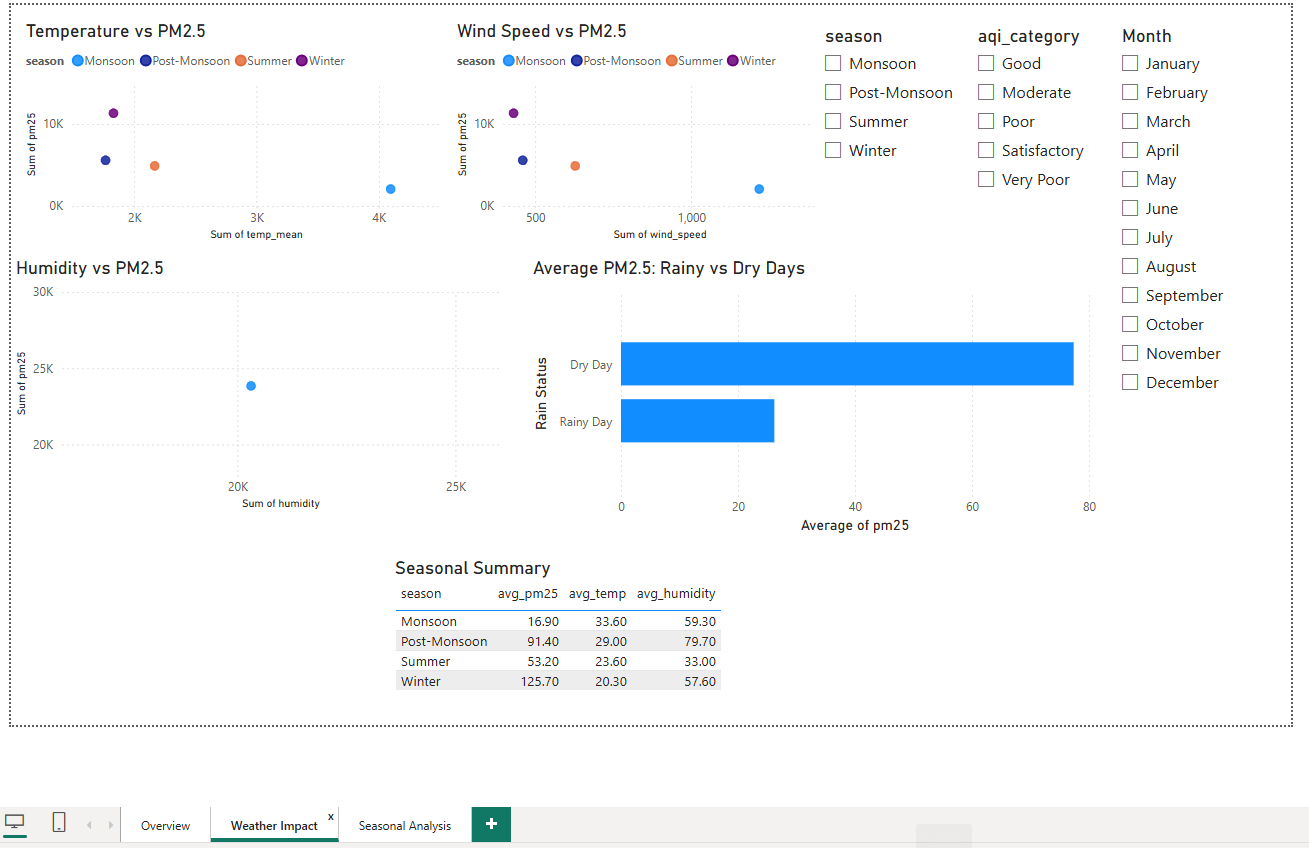

Layout of this report page (visuals, bound fields, positions):
{"tool":"powerbi","page":{"name":"Weather Impact","canvas":[1280,720],"ordinal":1},"visuals":[{"type":"scatterChart","title":"Temperature vs PM2.5","fields":{"X":["Sum(daily_dashboard.temp_mean)"],"Y":["Sum(daily_dashboard.pm25)"],"Series":["daily_dashboard.season"]},"box":[9.7,14.6,430.9,225.7],"z":0},{"type":"scatterChart","title":"Wind Speed vs PM2.5","fields":{"X":["Sum(daily_dashboard.wind_speed)"],"Y":["Sum(daily_dashboard.pm25)"],"Series":["daily_dashboard.season"]},"box":[440.6,14.6,384.2,225.7],"z":1000},{"type":"scatterChart","title":"Humidity vs PM2.5","fields":{"X":["Sum(daily_dashboard.humidity)"],"Y":["Sum(daily_dashboard.pm25)"]},"box":[0,251.9,502.9,256.8],"z":2000},{"type":"clusteredBarChart","title":"Average PM2.5: Rainy vs Dry Days","fields":{"Category":["daily_dashboard.Rain Status"],"Y":["Avg(daily_dashboard.pm25)"]},"box":[517.4,251.9,572.9,281.1],"z":3000},{"type":"tableEx","title":"Seasonal Summary","fields":{"Values":["seasonal_summary.season","seasonal_summary.avg_pm25","seasonal_summary.avg_temp","seasonal_summary.avg_humidity"]},"box":[379.3,552.5,374.5,167.3],"z":4000},{"type":"slicer","fields":{"Values":["daily_dashboard.season"]},"box":[801.5,14.6,152.7,171.2],"z":4001},{"type":"slicer","fields":{"Values":["daily_dashboard.date.Variation.Date Hierarchy.Month"]},"box":[1098.1,14.6,164.4,391],"z":4002},{"type":"slicer","fields":{"Values":["daily_dashboard.aqi_category"]},"box":[954.2,14.6,136.2,215.9],"z":4003}]}

Visuals, with their boxes on the page's 1280x720 design canvas (x1, y1, x2, y2). These are canvas units, not pixel positions in the 1309x848 screenshot, which may show the page scaled, cropped or inside an application window:
"Temperature vs PM2.5" scatterChart: [10,15,441,240]
"Wind Speed vs PM2.5" scatterChart: [441,15,825,240]
"Humidity vs PM2.5" scatterChart: [0,252,503,509]
"Average PM2.5: Rainy vs Dry Days" clusteredBarChart: [517,252,1090,533]
"Seasonal Summary" tableEx: [379,552,754,720]
slicer - daily_dashboard.season: [802,15,954,186]
slicer - daily_dashboard.date.Variation.Date Hierarchy.Month: [1098,15,1262,406]
slicer - daily_dashboard.aqi_category: [954,15,1090,230]
